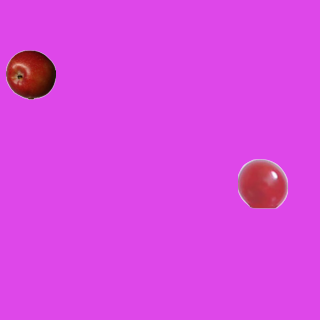Apple Braeburn: (5, 49, 55, 99)
Redcurrant: (237, 158, 287, 208)
